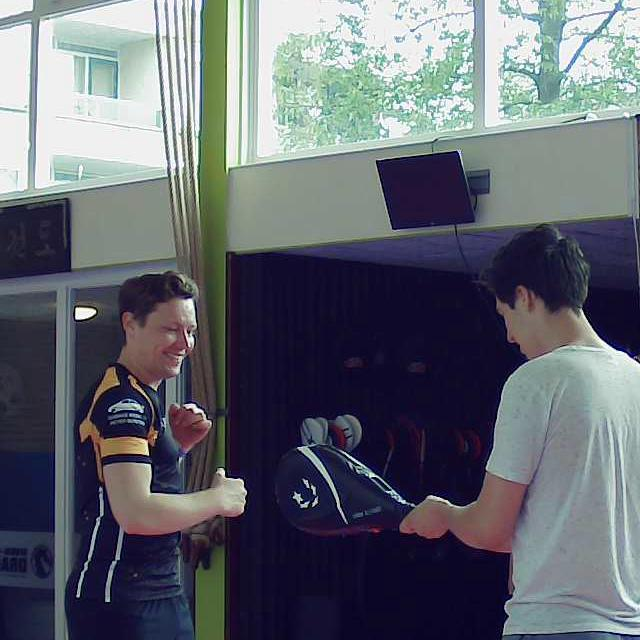paddle: (267, 438, 423, 538)
